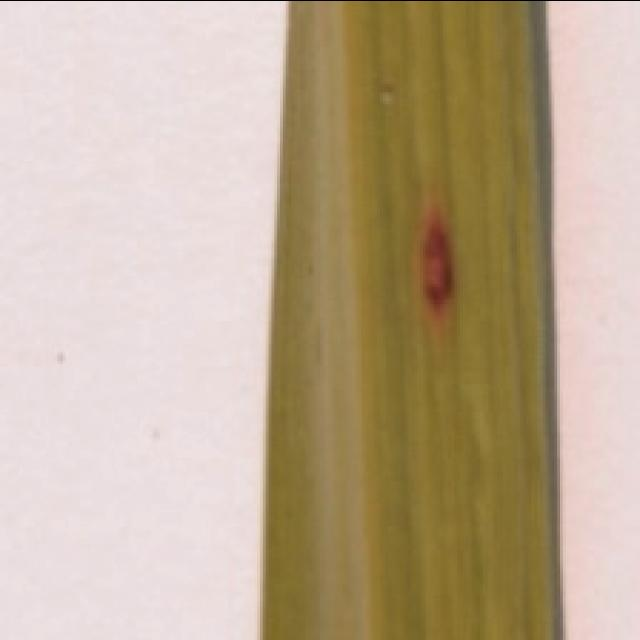Unhealthy: (413, 211, 463, 320)
